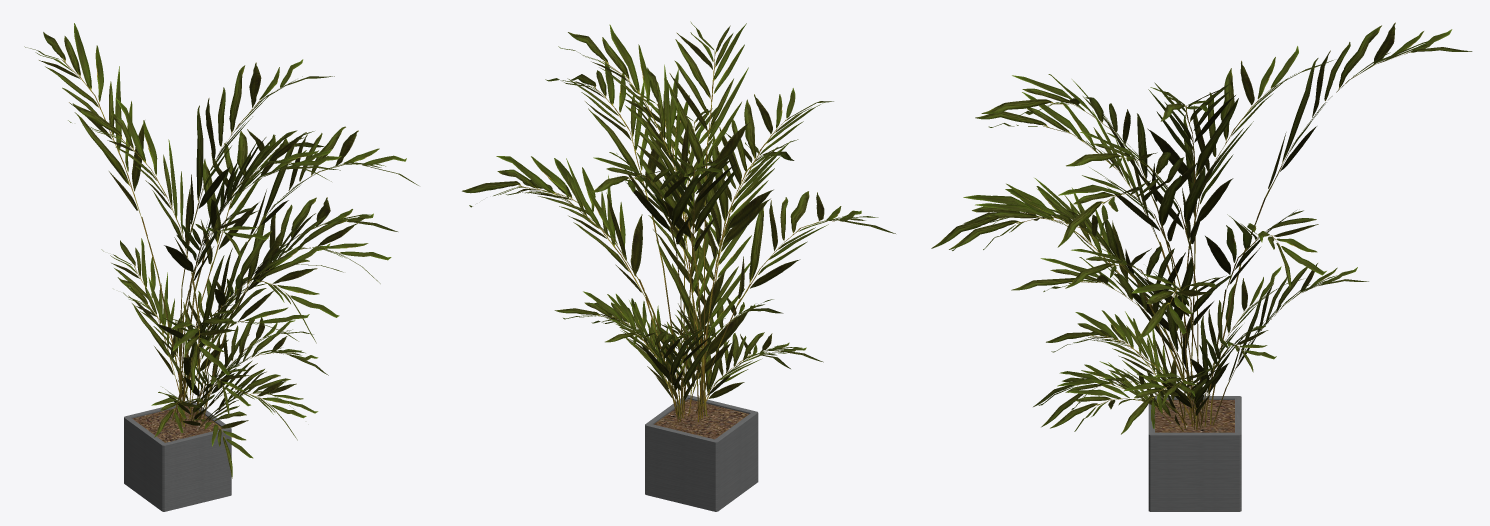
The model's file is Flora_Plant.fbx.
3 renders of one model, left to right at view 1: azimuth 30°, elevation 25°; view 2: azimuth 150°, elevation 25°; view 3: azimuth 270°, elevation 25°, orthographic. The views are drawn at different scales.
Parts seen in each view (by area): view 1: Office_Living_Plant_Leafs, Office_Living_Plant; view 2: Office_Living_Plant_Leafs, Office_Living_Plant; view 3: Office_Living_Plant_Leafs, Office_Living_Plant.
Part boxes in pixels (<box>): Office_Living_Plant_Leafs: <box>24,23,418,478</box>; Office_Living_Plant: <box>124,400,231,511</box>; Office_Living_Plant_Leafs: <box>462,21,895,421</box>; Office_Living_Plant: <box>645,395,758,511</box>; Office_Living_Plant_Leafs: <box>931,22,1472,434</box>; Office_Living_Plant: <box>1148,396,1241,511</box>.
Bounding box in the file's own units: 123 × 161 × 169.
